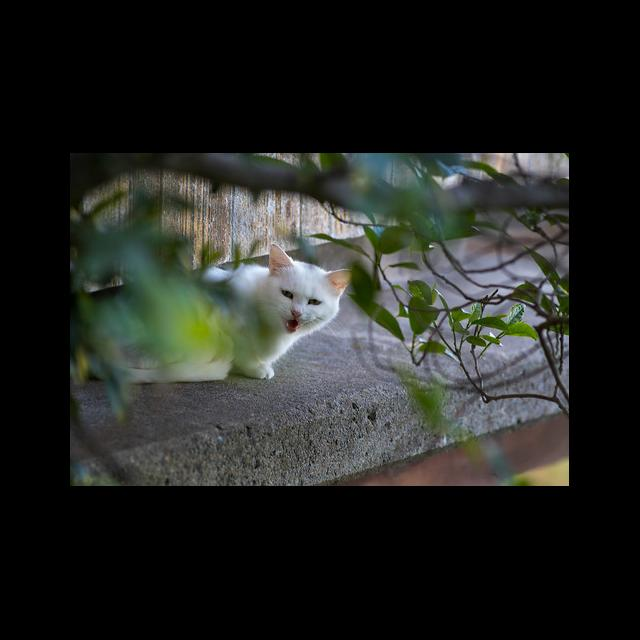animals: (83, 245, 357, 384)
